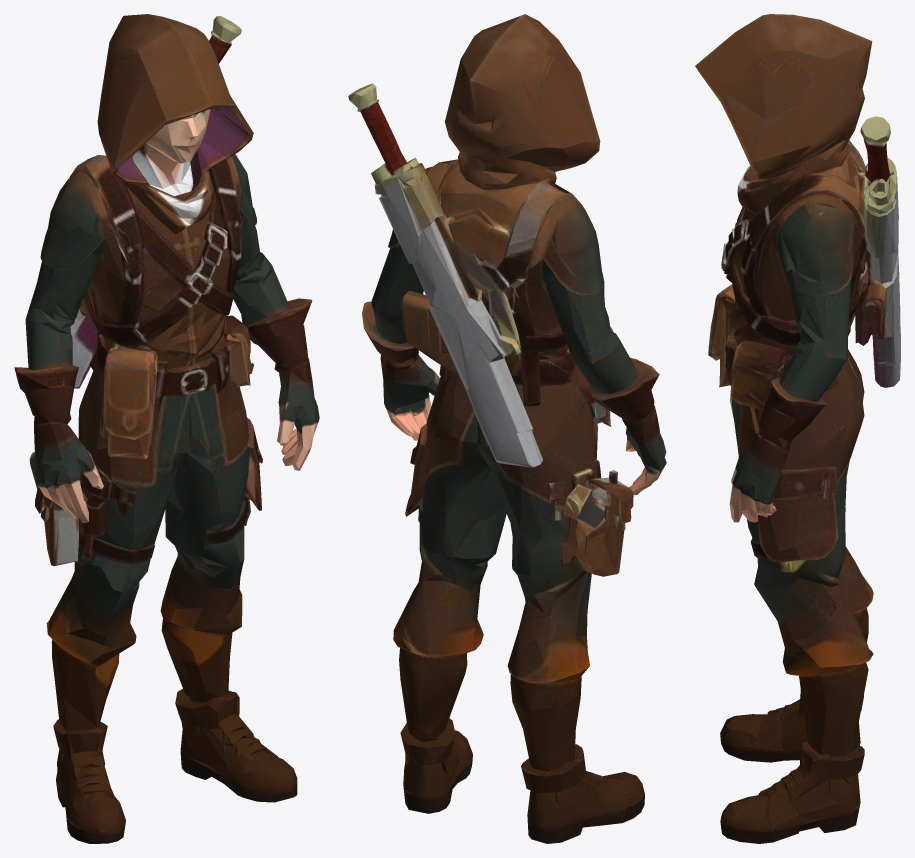
The model's file is adventurer.glb.
The picture shows the model from 3 angles, left to right: view 1: azimuth 30°, elevation 25°; view 2: azimuth 150°, elevation 25°; view 3: azimuth 270°, elevation 25°; orthographic projection.
Parts seen in each view (by area): view 1: game-ready; view 2: game-ready; view 3: game-ready.
Boxes of the visible parts, x1,y1,x2,y2 form: game-ready: (14,14,319,843); game-ready: (348,14,666,843); game-ready: (695,14,900,843).
Size of the model in its own units: 0.395 by 1 by 0.2399.
Materials: 1 (1 with a texture image).
